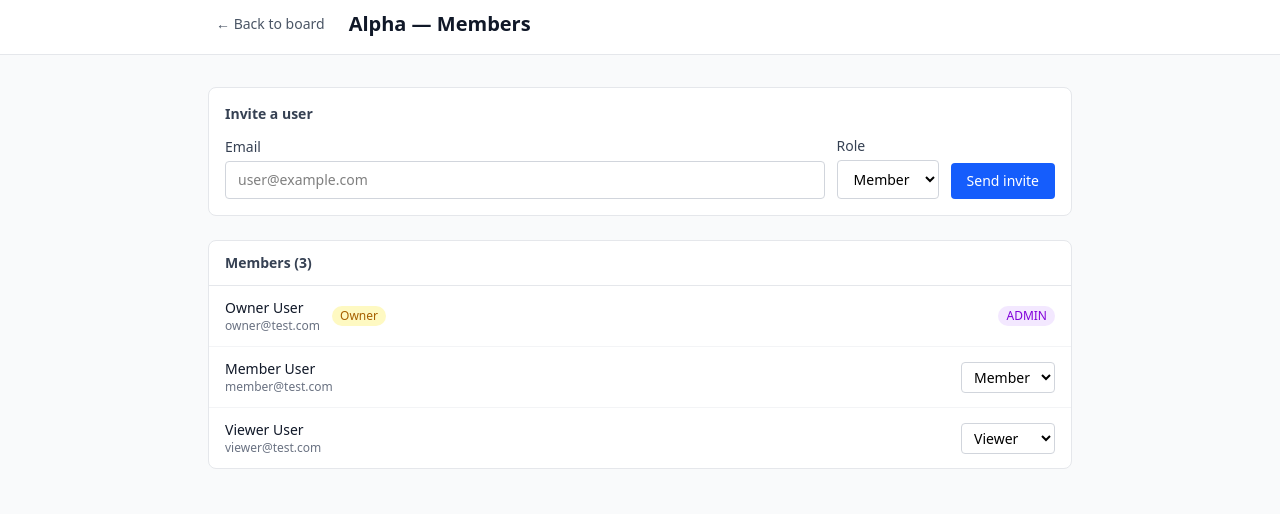
Test: MembersPage › shows error message from failed invite
Expected: the heading "Invite a user" is shown, [225,104,313,123]
In the field labelled "Email": {"x": 525, "y": 180} [225,161,825,199], type "unknown@test.com"
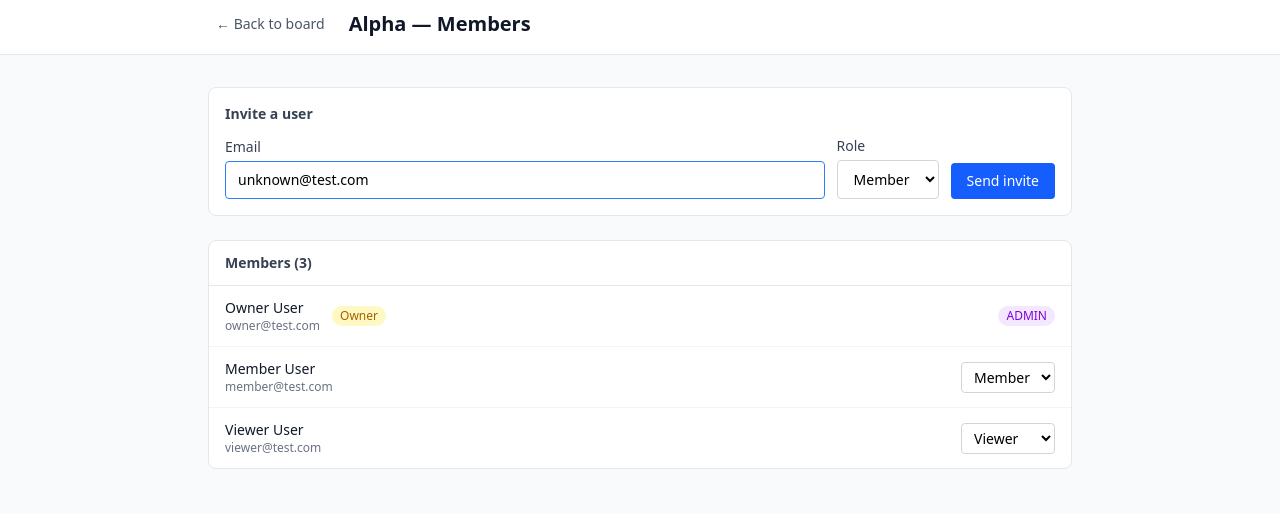
Click the button "Send invite": {"x": 1003, "y": 181} [951,163,1055,199]
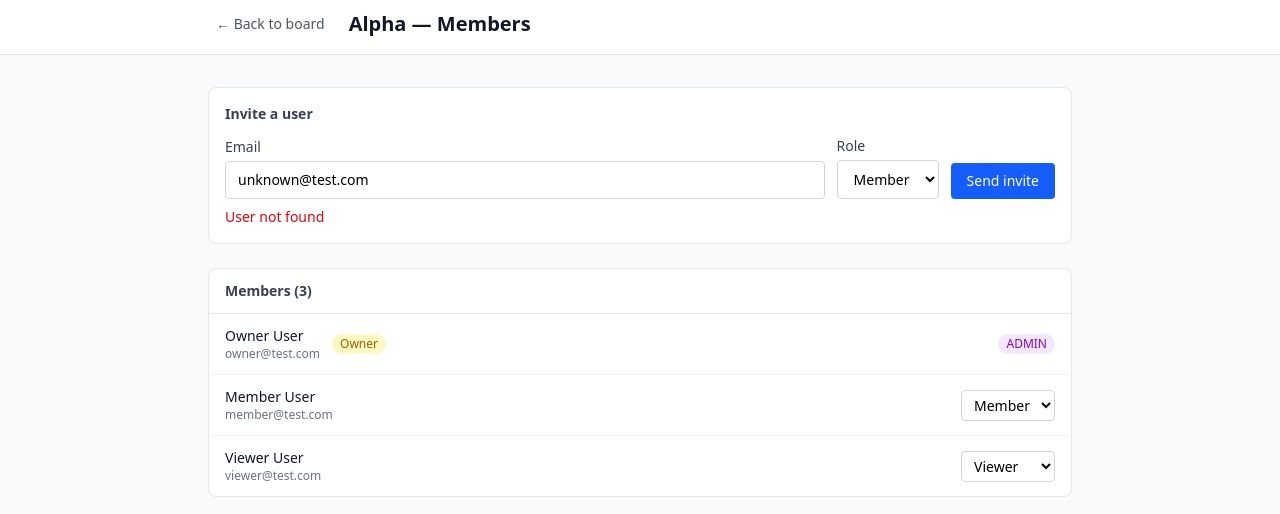
Expected: the text "User not found" is shown, [225,207,324,226]
